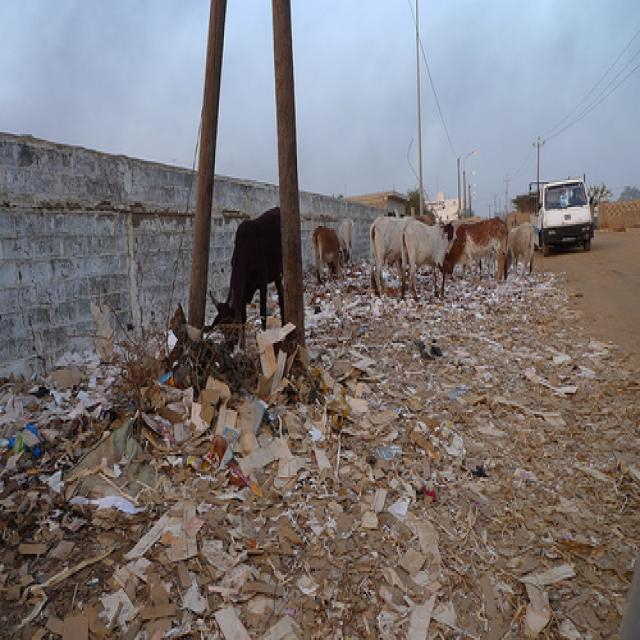cow: (203, 195, 286, 347), (397, 213, 454, 299), (443, 215, 507, 282), (368, 211, 400, 293), (310, 223, 343, 286), (506, 220, 533, 282), (337, 217, 352, 265), (410, 211, 435, 224)
